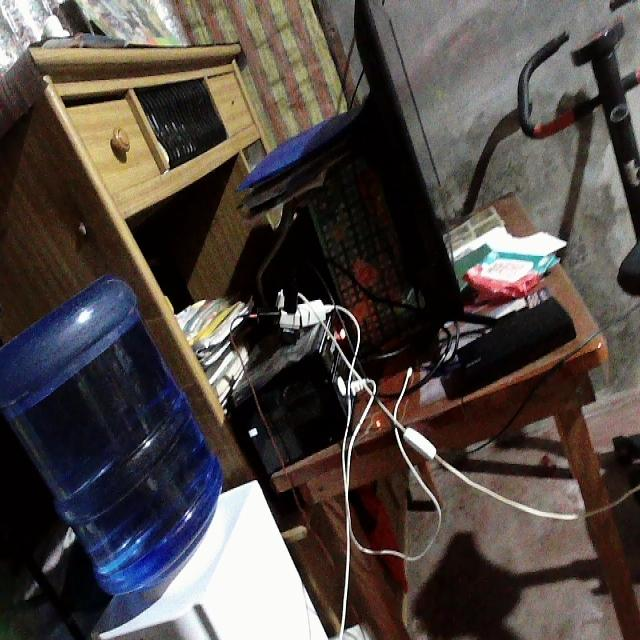-: (245, 268, 327, 339)
